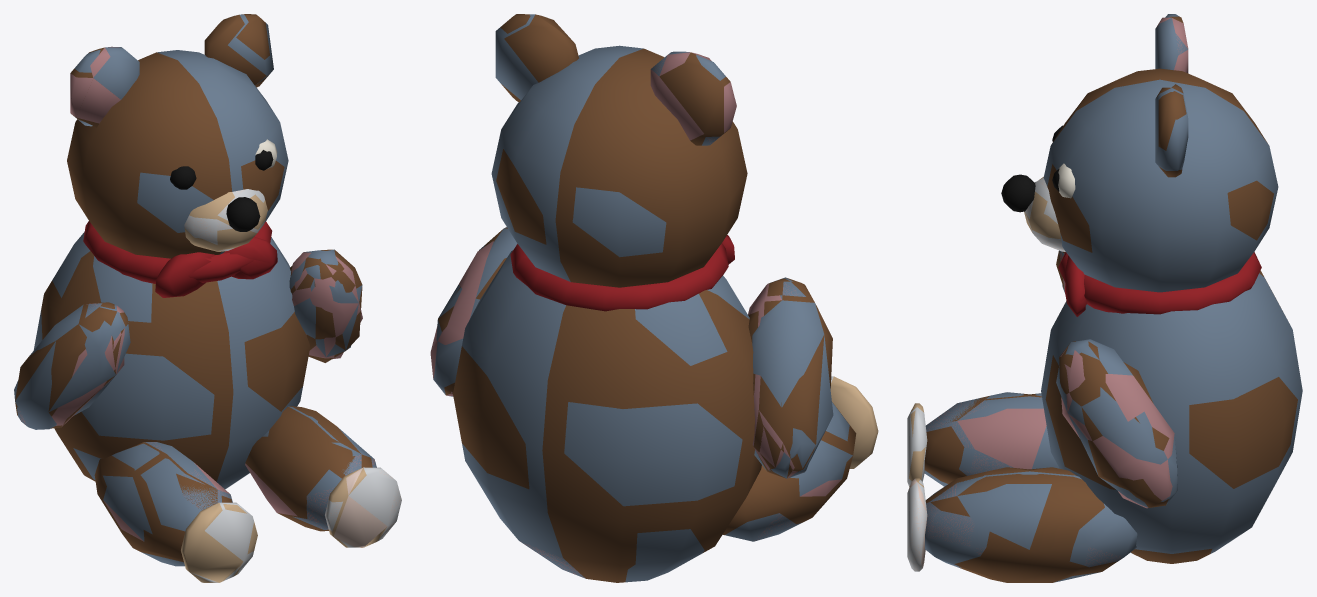
File: plush.glb
3 renders of one model, left to right at view 1: azimuth 30°, elevation 25°; view 2: azimuth 150°, elevation 25°; view 3: azimuth 270°, elevation 25°, orthographic. The views are drawn at different scales.
Visible parts, largest first — view 1: bear_brown, bear_blue, bear_pink; view 2: bear_brown, bear_blue, bear_pink; view 3: bear_blue, bear_brown, bear_pink.
Part boxes in pixels (x1,y1,x2,y2): bear_brown: (15,14,386,582); bear_blue: (14,14,401,582); bear_pink: (18,46,401,547); bear_brown: (438,14,878,582); bear_blue: (433,14,852,582); bear_pink: (430,52,841,577); bear_blue: (907,14,1302,582); bear_brown: (909,16,1297,582); bear_pink: (907,17,1188,570).
Size of the model in its own units: 0.3471 by 0.4645 by 0.3339.
